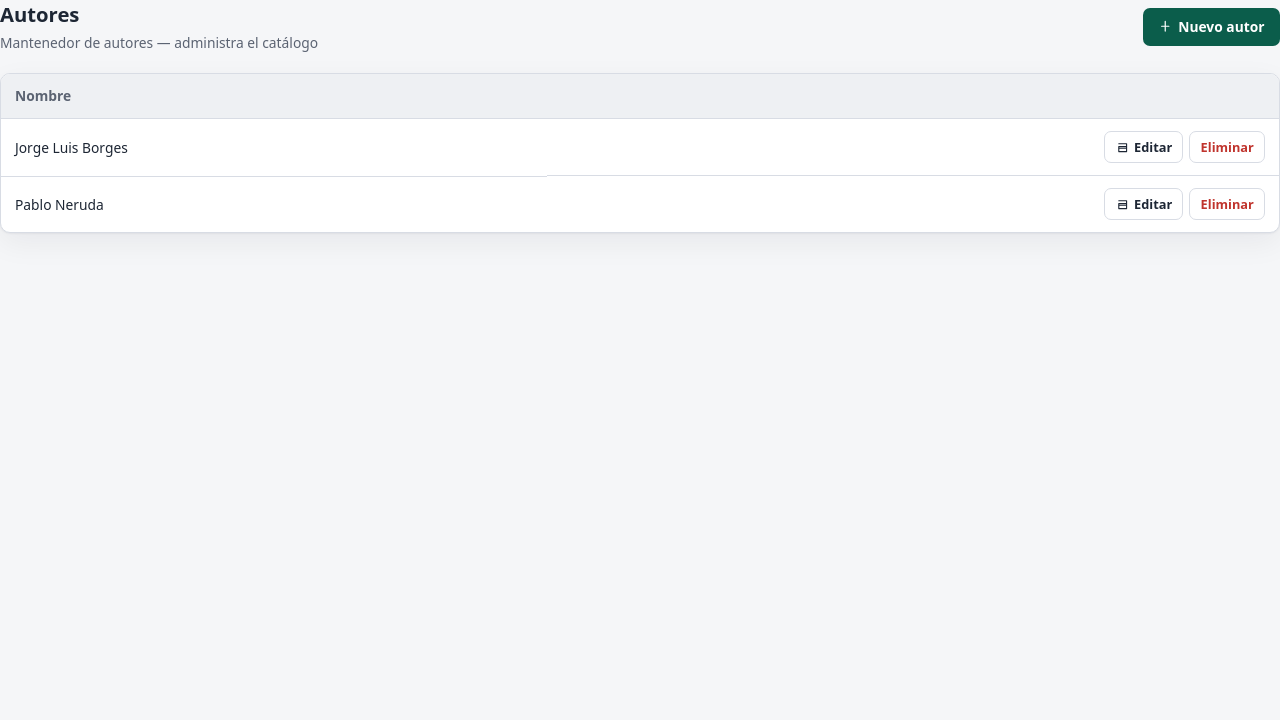
CatalogCrudPage › deletes an item after confirming in the dialog
Expected: the text "Jorge Luis Borges" is shown, x1=1 y1=119 x2=547 y2=176
Click the button "Eliminar" in the row of "Jorge Luis Borges". click: x=1227, y=147
box: x1=1189 y1=131 x2=1265 y2=163
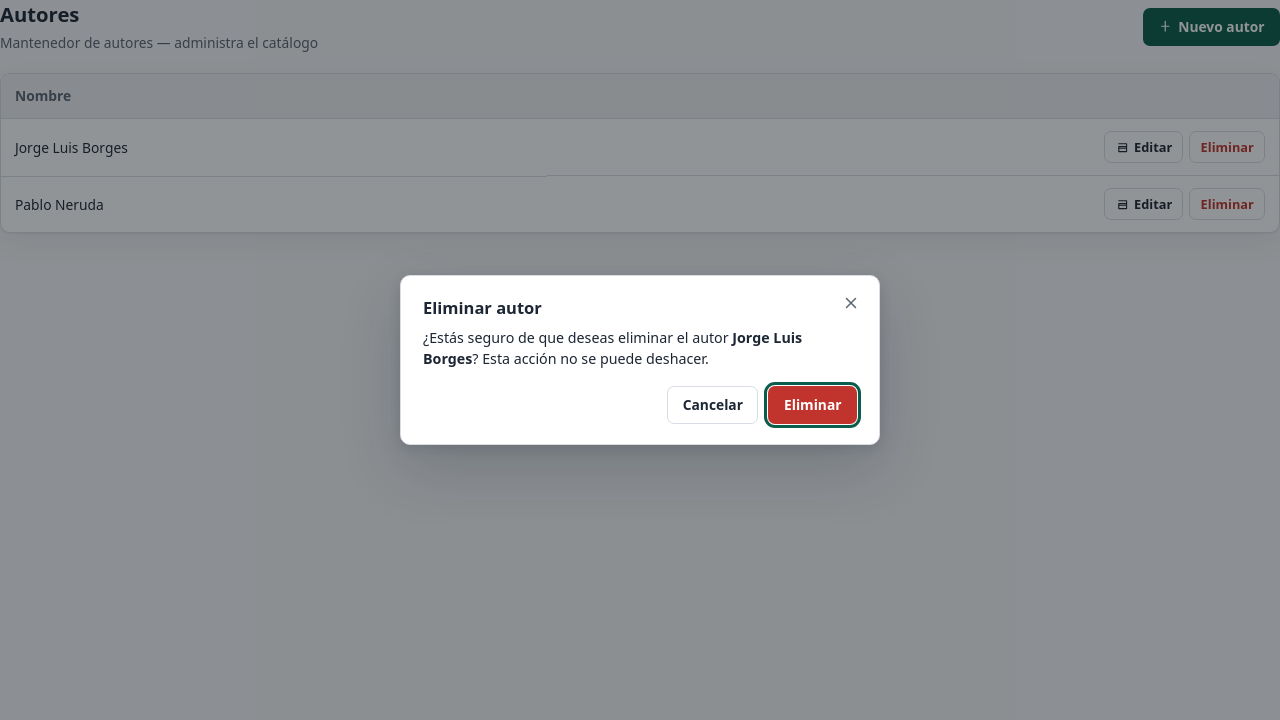
Result: the heading "Eliminar autor" is shown at x1=423 y1=296 x2=542 y2=319
Result: the text "¿Estás seguro de que deseas eliminar el autor" is shown at x1=423 y1=328 x2=732 y2=347
Click the button "Eliminar". click: x=813, y=405
box: x1=768 y1=386 x2=857 y2=424
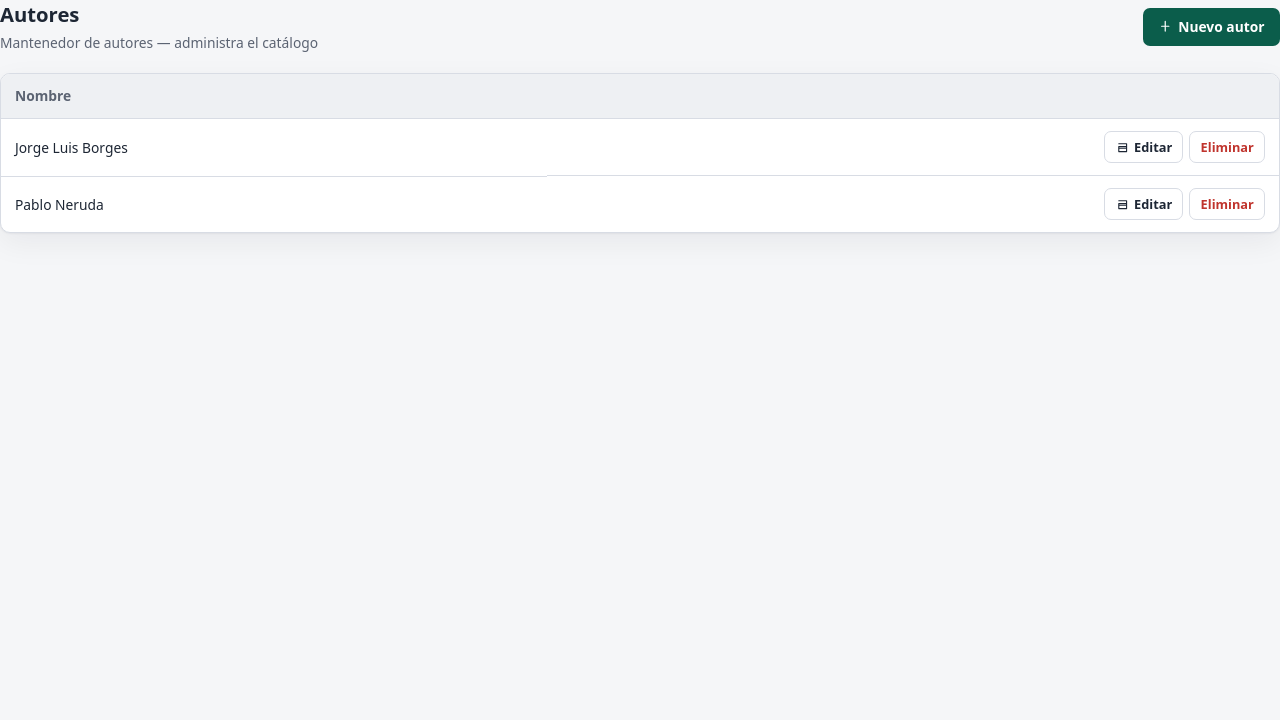
Result: the dialog is gone
